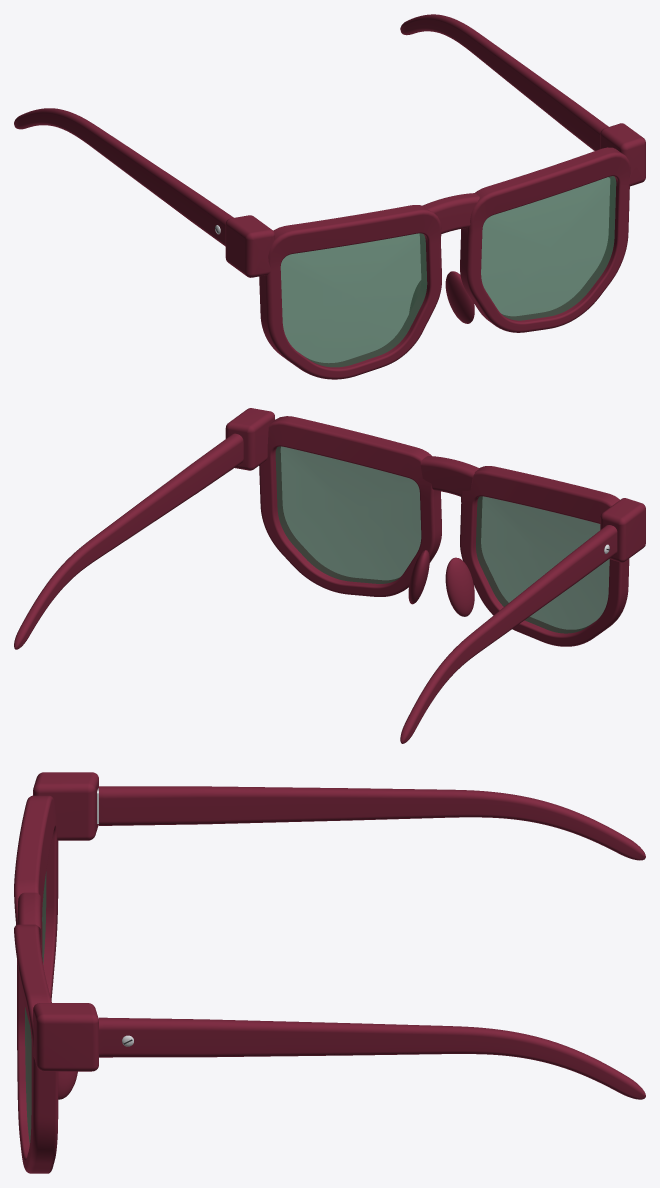
The model's file is wayfarer_vino_verde.glb.
3 views of the same model, one above another, from view 1: azimuth 30°, elevation 25°; view 2: azimuth 150°, elevation 25°; view 3: azimuth 270°, elevation 25° (orthographic). The views are drawn at different scales.
Visible parts, largest first — view 1: frente, temple_R, temple_L; view 2: frente, temple_L, temple_R; view 3: frente, temple_R, temple_L.
Boxes of the visible parts, bbox=[...] form: frente: bbox=[225, 123, 645, 379]; temple_R: bbox=[14, 108, 233, 246]; temple_L: bbox=[400, 14, 608, 150]; frente: bbox=[225, 408, 645, 646]; temple_L: bbox=[14, 433, 243, 649]; temple_R: bbox=[400, 525, 617, 743]; frente: bbox=[14, 772, 98, 1173]; temple_R: bbox=[97, 786, 645, 860]; temple_L: bbox=[99, 1017, 645, 1099].
Bounding box in the file's own units: 0.1401 × 0.0545 × 0.1512.
